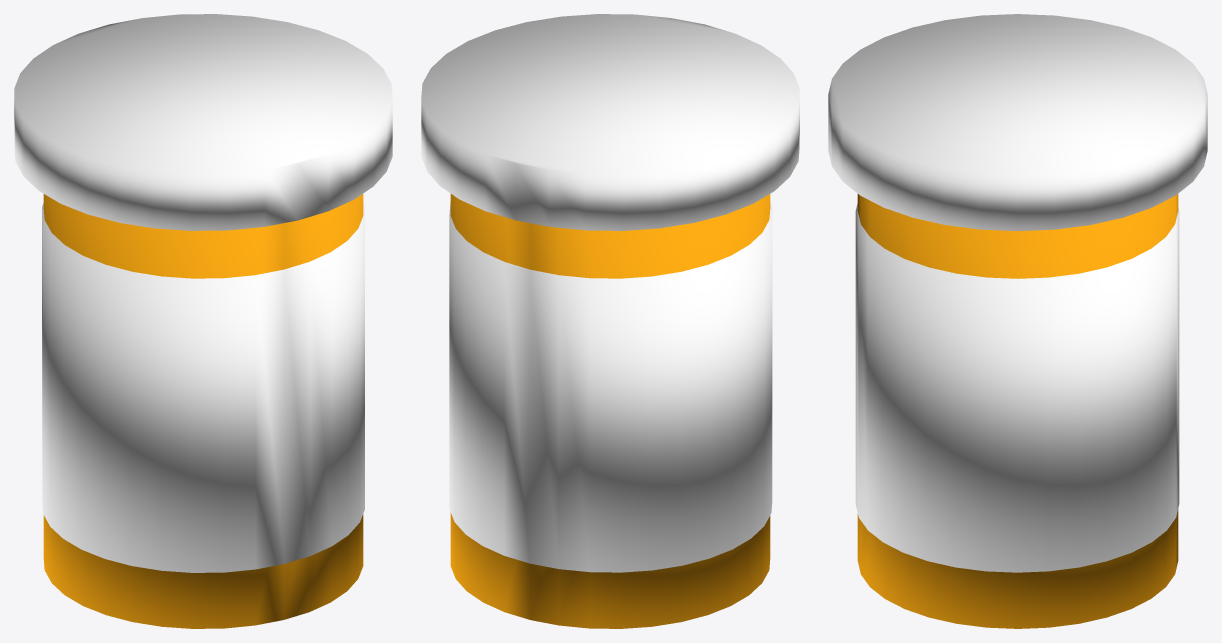
The model's file is BottleOfPills.fbx.
The picture shows the model from 3 angles, left to right: view 1: azimuth 30°, elevation 25°; view 2: azimuth 150°, elevation 25°; view 3: azimuth 270°, elevation 25°; orthographic projection.
Visible parts, largest first — view 1: Cylinder; view 2: Cylinder; view 3: Cylinder.
Part boxes in pixels (bbox=[...]): Cylinder: bbox=[14, 14, 392, 628]; Cylinder: bbox=[421, 14, 799, 628]; Cylinder: bbox=[828, 14, 1207, 628].
Size of the model in its own units: 2.37 by 3.22 by 2.37.
